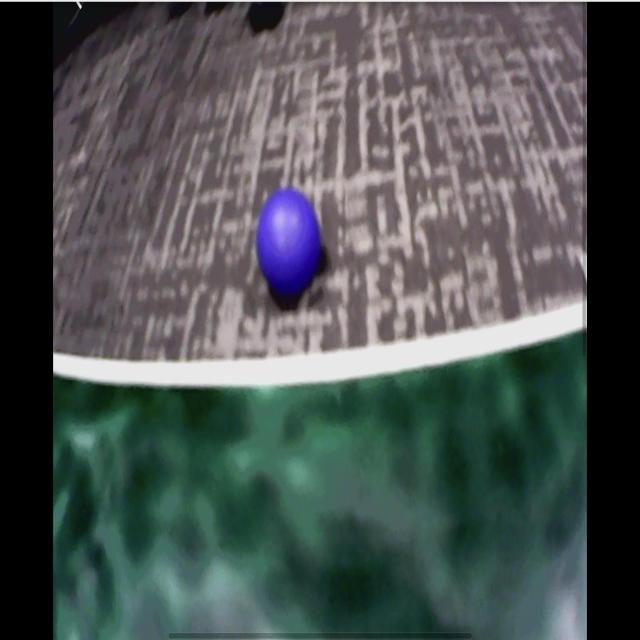ball: (258, 189, 322, 298)
